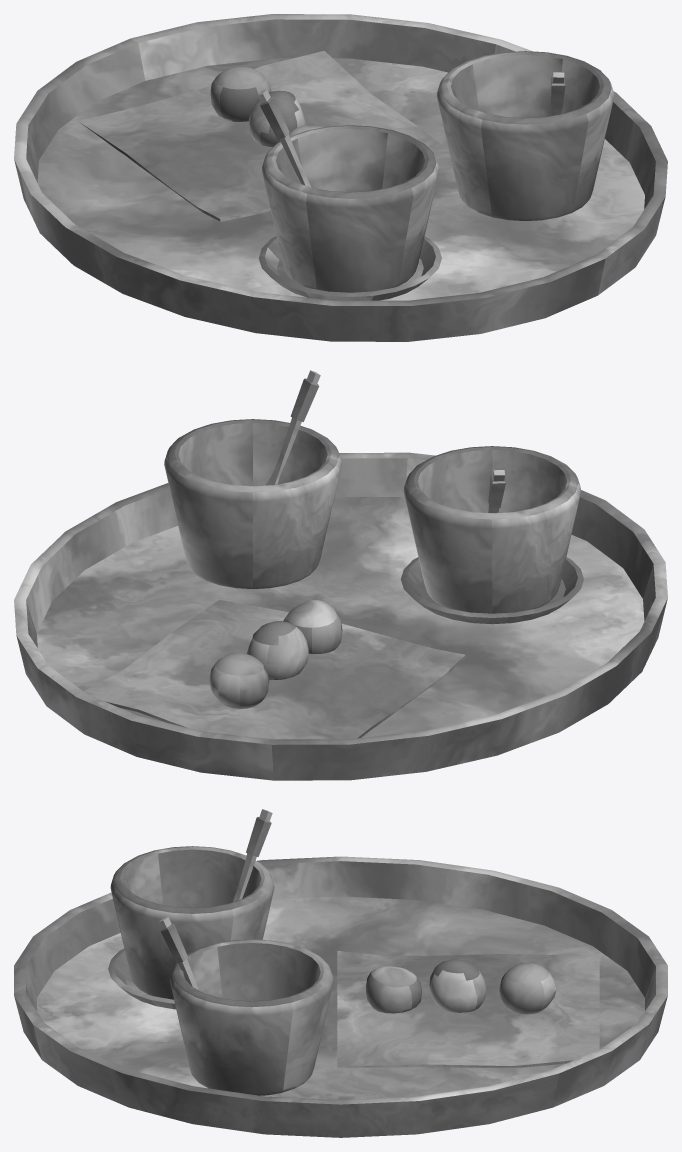
File: SM_plate_02.fbx
3 renders of one model, top to bottom at view 1: azimuth 30°, elevation 25°; view 2: azimuth 150°, elevation 25°; view 3: azimuth 270°, elevation 25°, orthographic. The views are drawn at different scales.
Visible parts, largest first — view 1: SM_plate_02; view 2: SM_plate_02; view 3: SM_plate_02.
Boxes of the visible parts, x1,y1,x2,y2 form: SM_plate_02: (14, 14, 667, 341); SM_plate_02: (14, 370, 667, 780); SM_plate_02: (14, 809, 667, 1137).
Bounding box in the file's own units: 29.27 × 32.61 × 8.5.
1 material, 1 textured.
